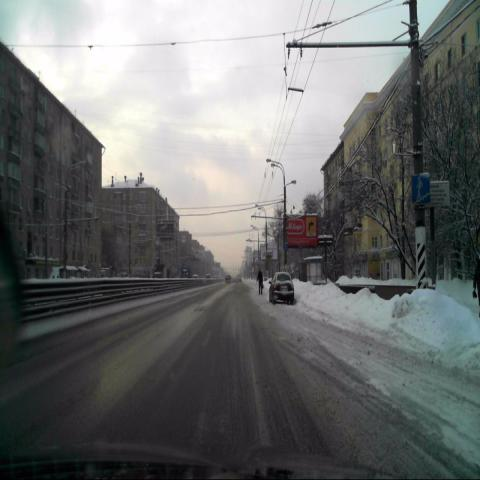6_6: (412, 174, 429, 205)
